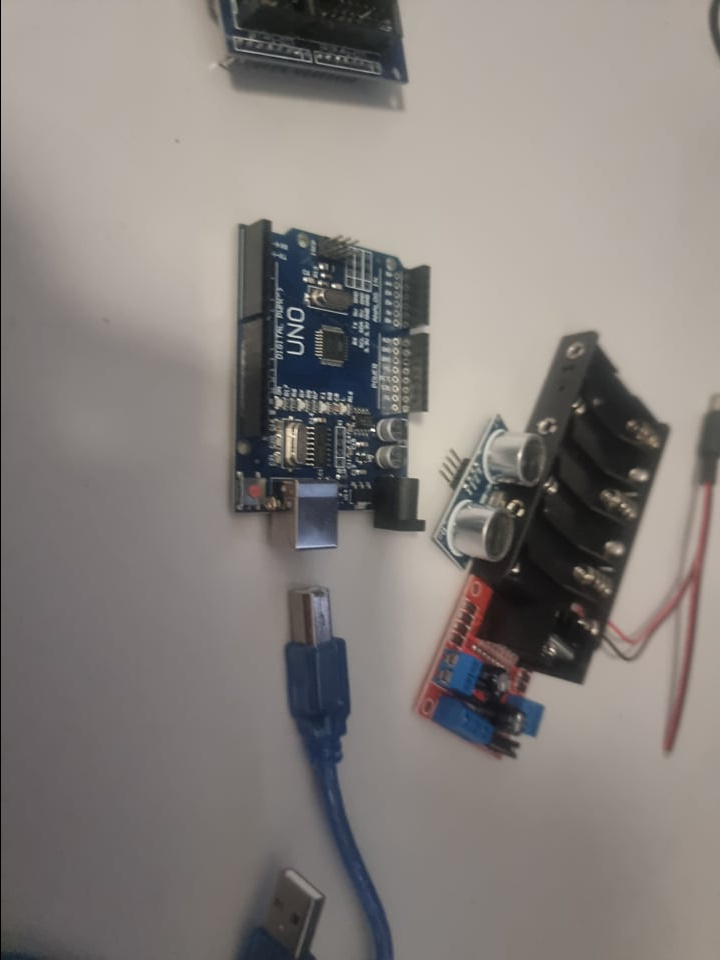BATTERY BOX: (524, 331, 672, 610)
MOTOR: (411, 576, 597, 760)
SENSOR: (434, 422, 543, 565)
UNO R3: (222, 216, 440, 553)
